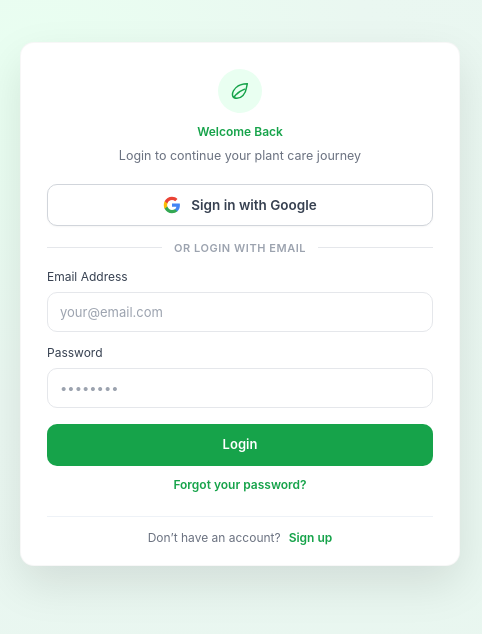
Test: Login Page UI › shows validation error if password is empty but email is provided
The width and height of the screenshot is (482, 634).
Type "test@example.com" into the field with placeholder "your@email.com". click: (240, 312)
box: x1=47 y1=292 x2=433 y2=332
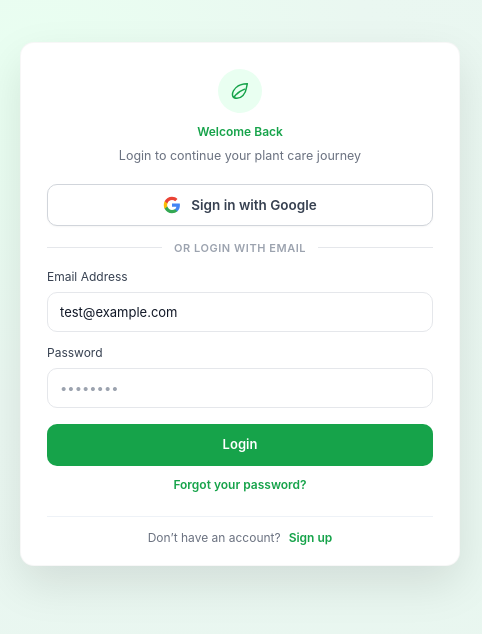
Click the button "Login". click: (240, 445)
box: x1=47 y1=424 x2=433 y2=466
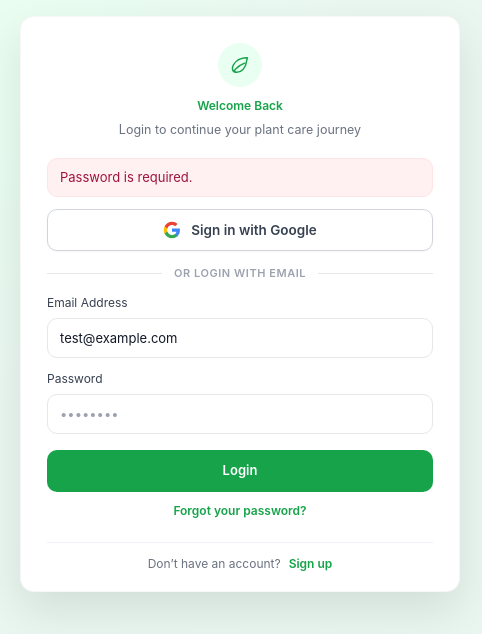
Expected: the text "Password is required." is shown, x1=47 y1=158 x2=433 y2=197
